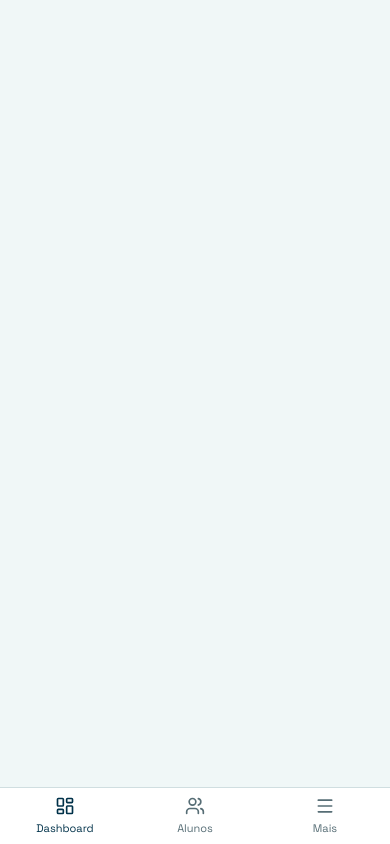
Test: MobileBottomNav › ao impersonar, não duplica o botão de voltar na barra principal — só existe dentro de "Mais"
Expected: the text "voltar" is not shown
Click the button with aria-label "abrir mais opções": (325, 816) [260,788,389,843]
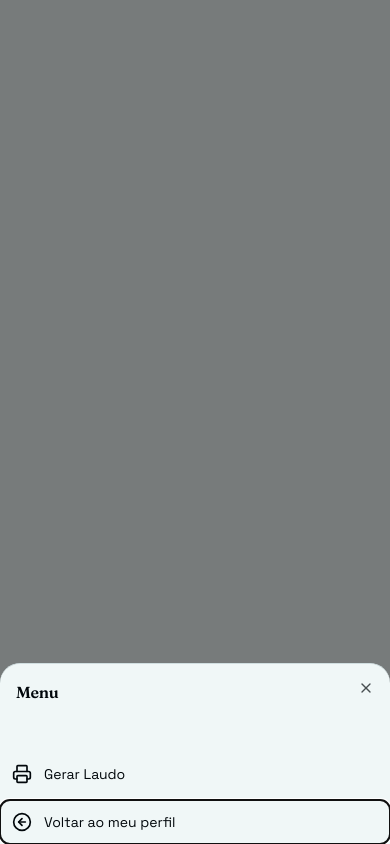
Expected: the button "Voltar ao meu perfil" is shown, [0,800,389,843]
